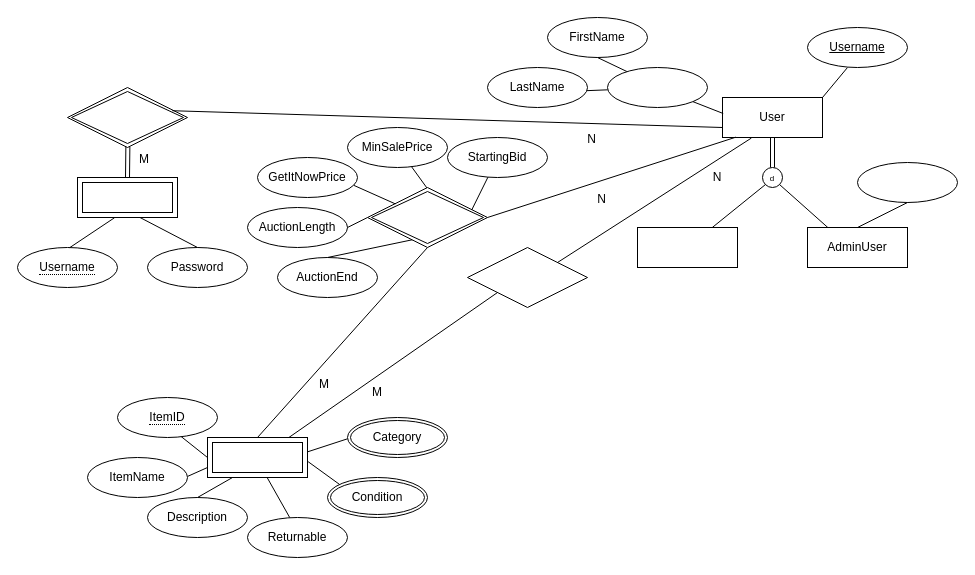
This 975x575 diagram has some shape labels left out. The centre of each missing label's shape, as x and y in pixels:
Auctions: [427,217]
Bids On: [527,277]
Item: [257,457]
Name: [657,87]
Position: [907,182]
Registers For: [127,117]
RegularUser: [687,247]
UserAccount: [127,197]
